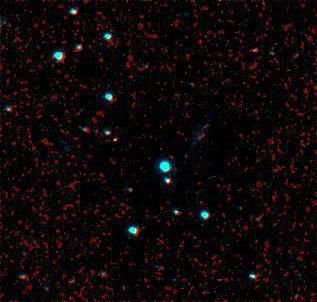star: (241, 32, 271, 62)
